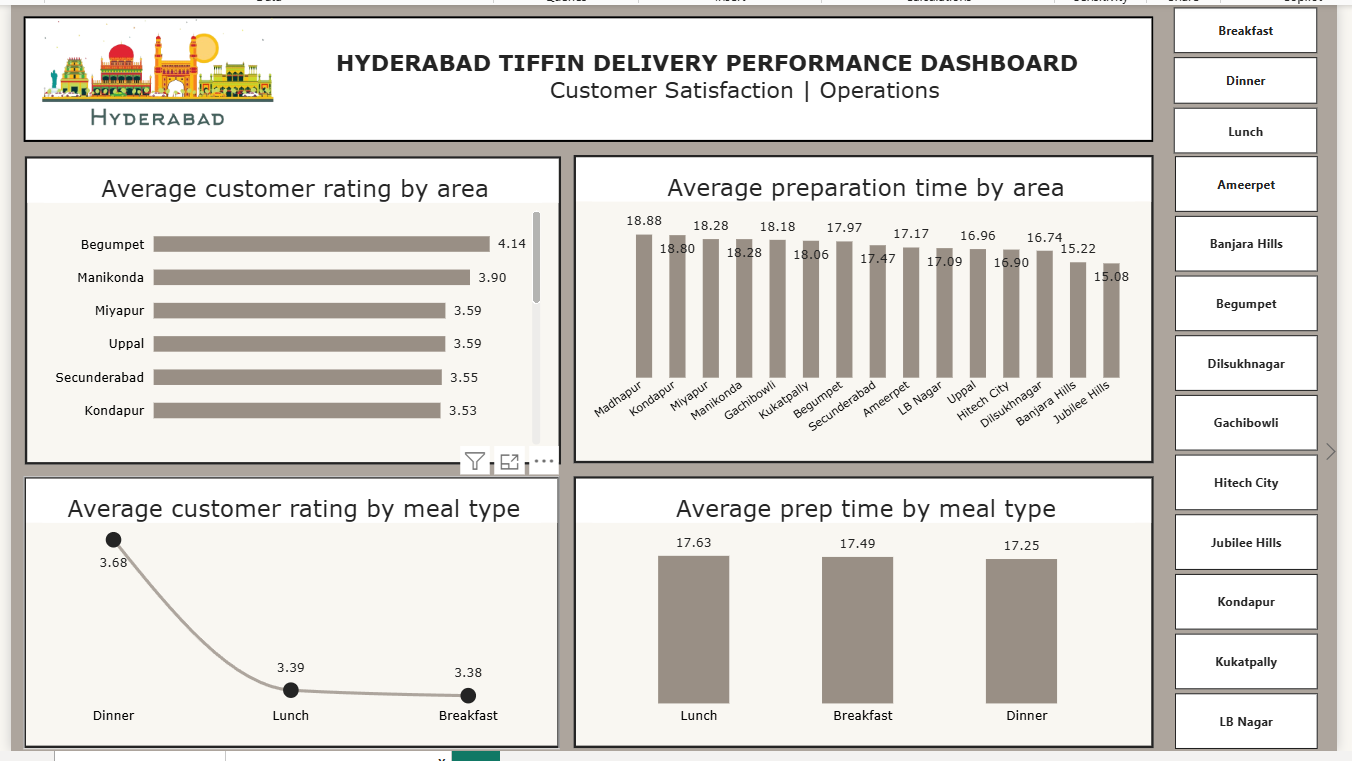

Layout of this report page (visuals, bound fields, positions):
{"tool":"powerbi","page":{"name":"Customer and Operations","canvas":[1280,720],"ordinal":1},"visuals":[{"type":"shape","box":[12,10.7,1090.7,121.3],"z":0},{"type":"textbox","box":[11.6,223.2,1060.9,124.6],"z":1000},{"type":"textbox","box":[313.7,42.2,789,76],"z":2000},{"type":"barChart","title":"Average  customer rating by area","fields":{"Category":["hyderabad_tiffin_delivery_raw_data (1).area"],"Y":["Avg(hyderabad_tiffin_delivery_raw_data (1).customer_rating)"]},"box":[13.7,145.5,517.3,297.8],"z":3000},{"type":"lineChart","title":"Average customer rating by meal type","fields":{"Category":["hyderabad_tiffin_delivery_raw_data (1).meal_type"],"Y":["Avg(hyderabad_tiffin_delivery_raw_data (1).customer_rating)"]},"box":[12,454.7,517.3,262.7],"z":4000},{"type":"clusteredColumnChart","title":"Average  preparation time by area","fields":{"Category":["hyderabad_tiffin_delivery_raw_data (1).area"],"Y":["Avg(hyderabad_tiffin_delivery_raw_data (1).prep_time_min)"]},"box":[542.7,145.3,560,297.3],"z":5000},{"type":"columnChart","title":"Average prep time by meal type","fields":{"Y":["Avg(hyderabad_tiffin_delivery_raw_data (1).prep_time_min)"],"Category":["hyderabad_tiffin_delivery_raw_data (1).meal_type"]},"box":[542.7,454.7,560,262.7],"z":6000},{"type":"slicer","fields":{"Values":["hyderabad_tiffin_delivery_raw_data (1).area"]},"box":[1103.3,144.1,177,576.3],"z":7000},{"type":"slicer","fields":{"Values":["hyderabad_tiffin_delivery_raw_data (1).meal_type"]},"box":[1101.9,0,178.4,145.5],"z":8000},{"type":"image","box":[12,4,258.7,121.3],"z":9000}]}

Visuals, with their boxes in screenshot pixels (x1, y1, x2, y2):
shape: pyautogui.locateOnScreen(12, 11, 1149, 137)
textbox: pyautogui.locateOnScreen(12, 232, 1117, 362)
textbox: pyautogui.locateOnScreen(327, 44, 1149, 123)
"Average  customer rating by area" barChart: pyautogui.locateOnScreen(14, 152, 553, 462)
"Average customer rating by meal type" lineChart: pyautogui.locateOnScreen(12, 474, 551, 747)
"Average  preparation time by area" clusteredColumnChart: pyautogui.locateOnScreen(565, 151, 1149, 461)
"Average prep time by meal type" columnChart: pyautogui.locateOnScreen(565, 474, 1149, 747)
slicer - hyderabad_tiffin_delivery_raw_data (1).area: pyautogui.locateOnScreen(1149, 150, 1334, 750)
slicer - hyderabad_tiffin_delivery_raw_data (1).meal_type: pyautogui.locateOnScreen(1148, 0, 1334, 152)
image: pyautogui.locateOnScreen(12, 4, 282, 131)
